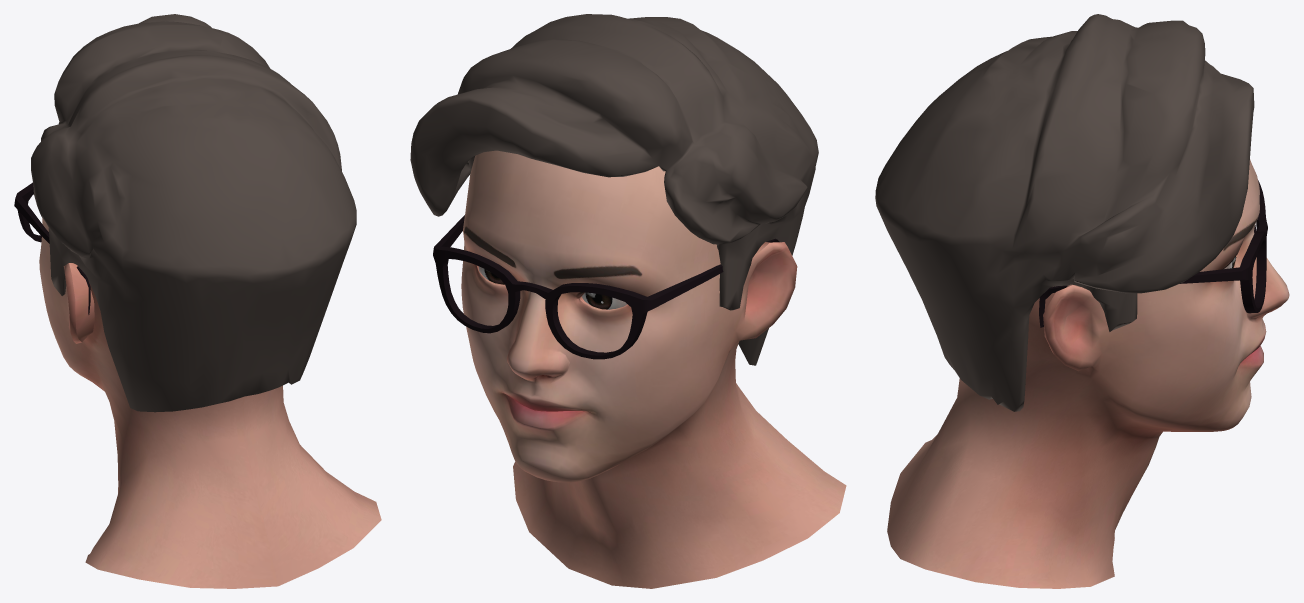
The model's file is av_zach_head.glb.
The picture shows the model from 3 angles, left to right: view 1: azimuth 30°, elevation 25°; view 2: azimuth 150°, elevation 25°; view 3: azimuth 270°, elevation 25°; orthographic projection. The views are drawn at different scales.
Visible parts, largest first — view 1: EyeLeft; view 2: EyeLeft; view 3: EyeLeft.
Boxes of the visible parts, x1,y1,x2,y2 form: EyeLeft: [14, 14, 381, 588]; EyeLeft: [410, 14, 846, 588]; EyeLeft: [875, 14, 1289, 588].
Size of the model in its own units: 0.3948 by 0.6512 by 0.4624.
4 materials, 4 textured.
